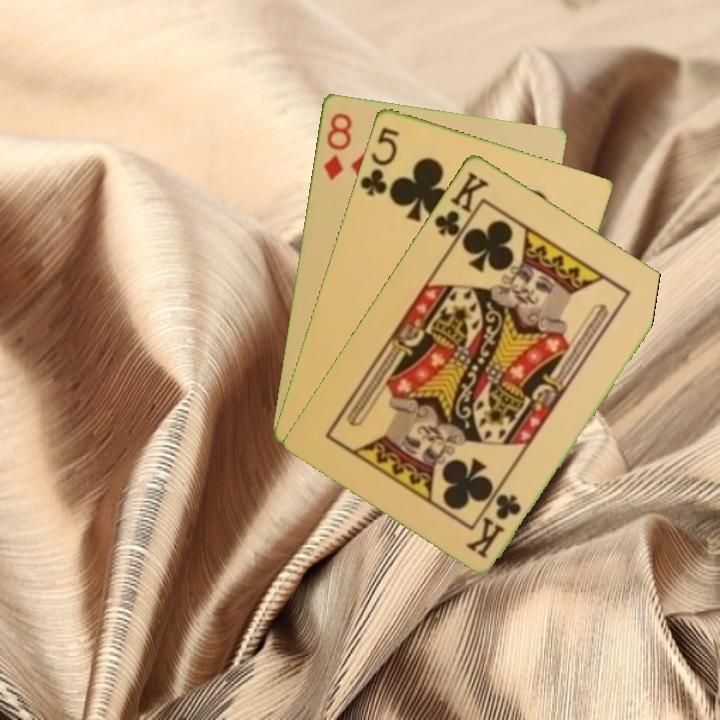5c: (356, 123, 402, 199)
8d: (319, 109, 355, 183)
Kc: (430, 167, 492, 249), (463, 489, 525, 561)
